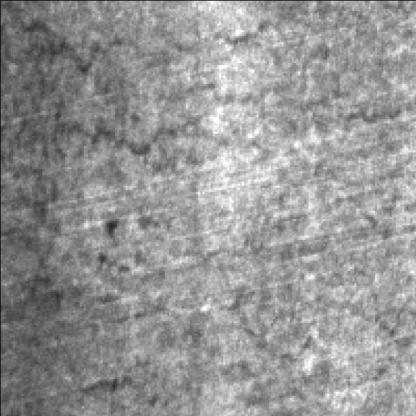crazing: (60, 14, 408, 168), (2, 4, 67, 316)
